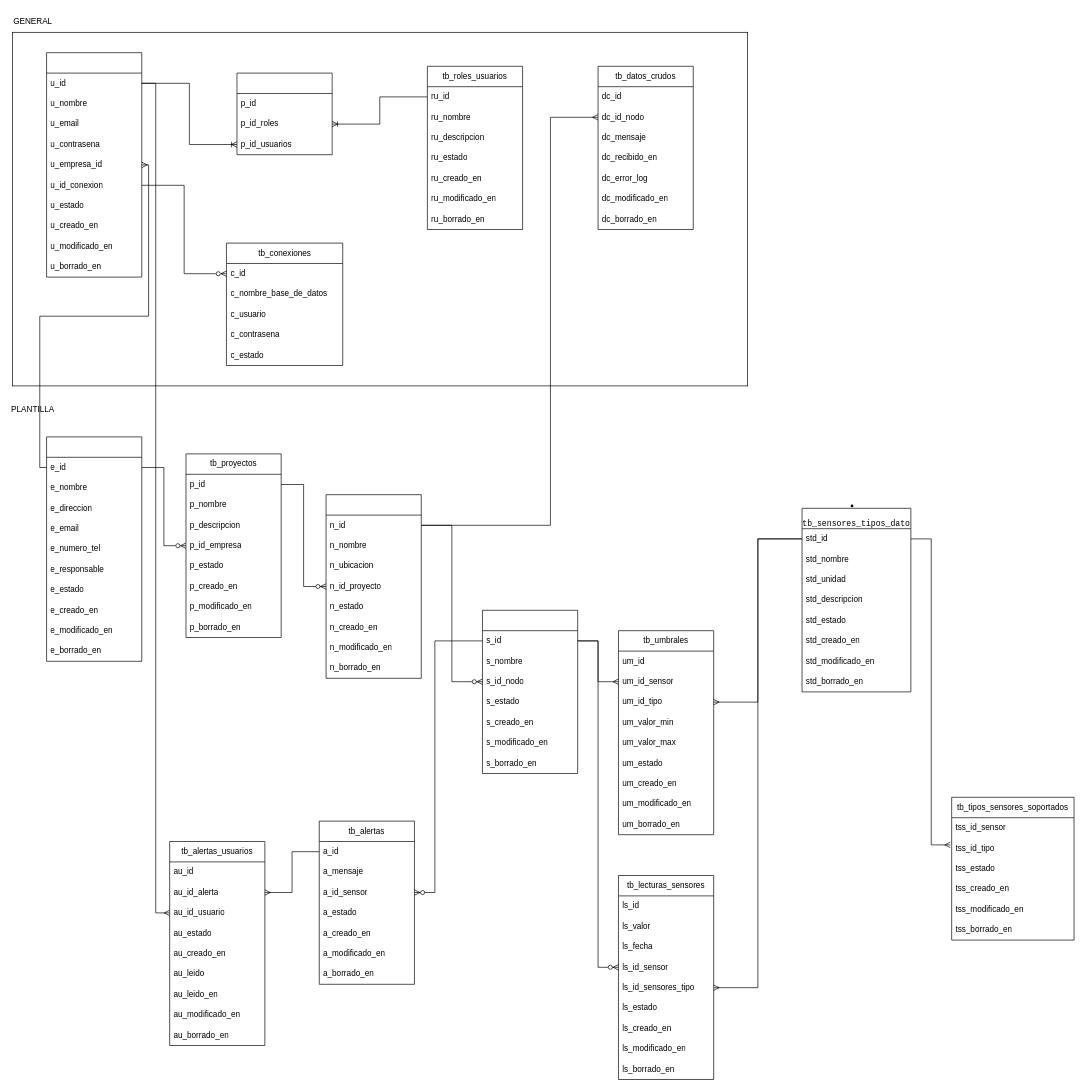
Image size: 1086x1091. Some labels were removed from this diagram. Each missing label, with the box of its shape:
tb_empresas: (46, 436, 142, 661)
tb_nodos: (325, 494, 421, 678)
tb_perfiles: (236, 72, 332, 155)
tb_sensores: (482, 610, 578, 774)
tb_usuarios: (46, 52, 142, 277)
